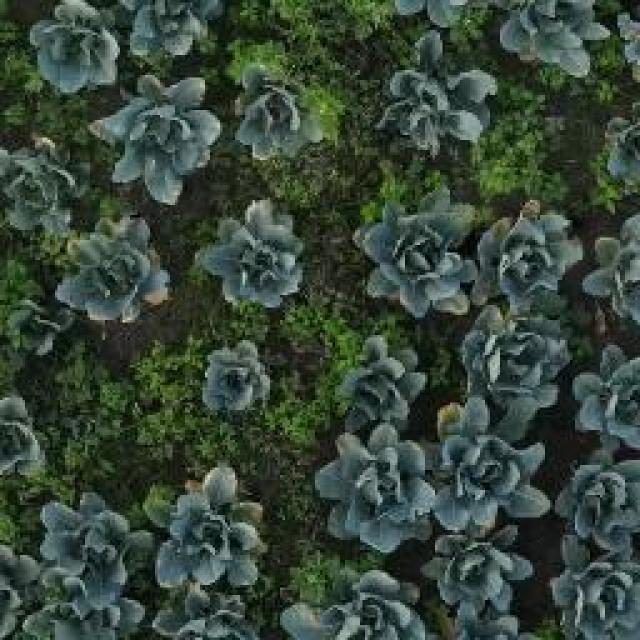cabbage: (360, 190, 478, 316), (152, 463, 266, 592), (316, 433, 436, 555), (381, 27, 497, 152), (100, 78, 216, 200), (436, 406, 551, 527), (35, 490, 150, 601), (60, 215, 171, 327), (196, 195, 302, 309), (460, 302, 563, 410), (477, 202, 583, 300), (428, 527, 534, 618), (497, 0, 613, 83), (311, 562, 430, 640), (236, 56, 326, 158), (334, 334, 424, 428), (30, 0, 125, 88), (0, 132, 83, 232), (566, 340, 640, 452), (555, 450, 640, 547), (558, 550, 640, 640), (29, 582, 146, 640), (122, 0, 225, 61), (585, 212, 640, 322), (157, 583, 262, 640), (198, 340, 272, 420), (0, 391, 51, 485), (4, 299, 77, 364)
